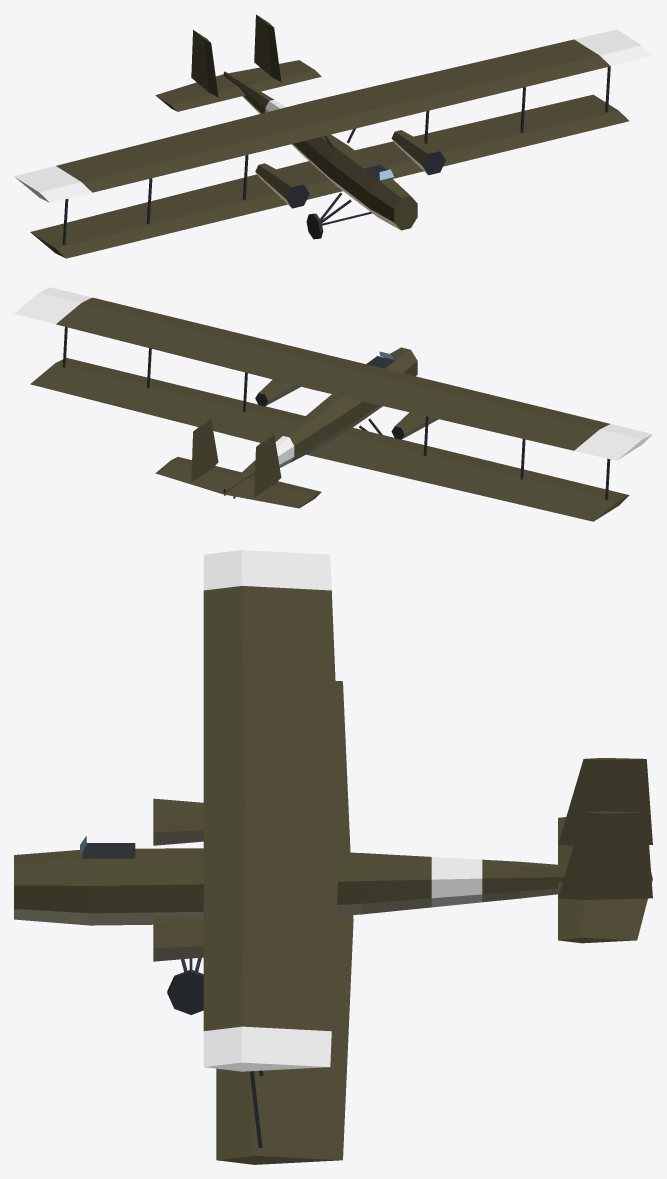
File: bomber_ww1_lod.glb
The picture shows the model from 3 angles, top to bottom: view 1: azimuth 30°, elevation 25°; view 2: azimuth 150°, elevation 25°; view 3: azimuth 270°, elevation 25°; orthographic projection. The views are drawn at different scales.
Visible parts, largest first — view 1: body; view 2: body; view 3: body.
Boxes of the visible parts, left/top/right/bottom form: body: left=14, top=14, right=652, bottom=258; body: left=14, top=287, right=652, bottom=521; body: left=14, top=550, right=652, bottom=1164.
Bounding box in the file's own units: 23 × 4.06 × 12.12.
